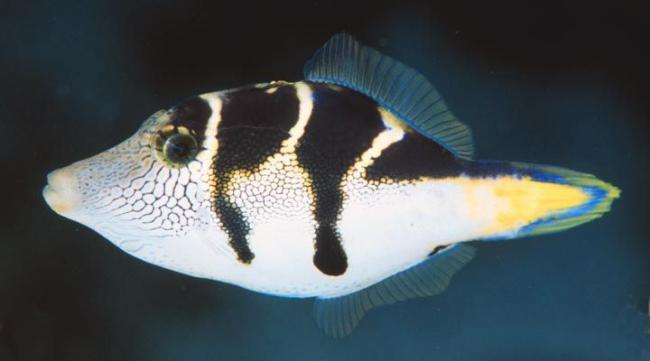fish: (41, 78, 622, 301)
